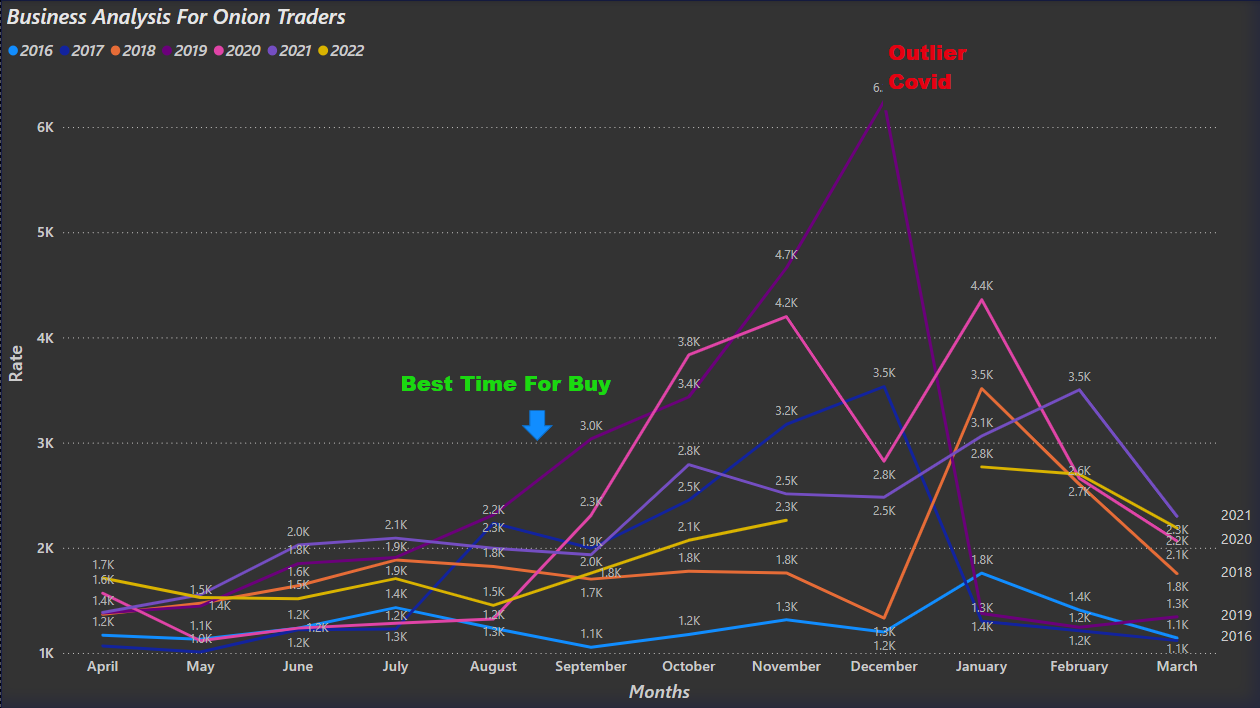

Layout of this report page (visuals, bound fields, positions):
{"tool":"powerbi","page":{"name":"Page 1","canvas":[1280,720],"ordinal":0},"visuals":[{"type":"lineChart","title":"Business Analysis For Onion Traders","fields":{"Category":["OnionPriceIndia.Year"],"Y":["Sum(OnionPriceIndia.2016)","Sum(OnionPriceIndia.2017)","Sum(OnionPriceIndia.2018)","Sum(OnionPriceIndia.2019)","Sum(OnionPriceIndia.2020)","Sum(OnionPriceIndia.2021)","Sum(OnionPriceIndia.2022)"]},"box":[0,0,1280,720],"z":0},{"type":"textbox","box":[896,32,128,80],"z":1000},{"type":"shape","box":[528,416,32,32],"z":2000},{"type":"textbox","box":[400,368,240,48],"z":3000}]}

Visuals, with their boxes in screenshot pixels (x1, y1, x2, y2), scaled from the page's 1280x720 canvas onto the 1260x708 screenshot:
"Business Analysis For Onion Traders" lineChart: 0 0 1259 707
textbox: 882 31 1008 110
shape: 520 409 551 441
textbox: 394 362 630 409
